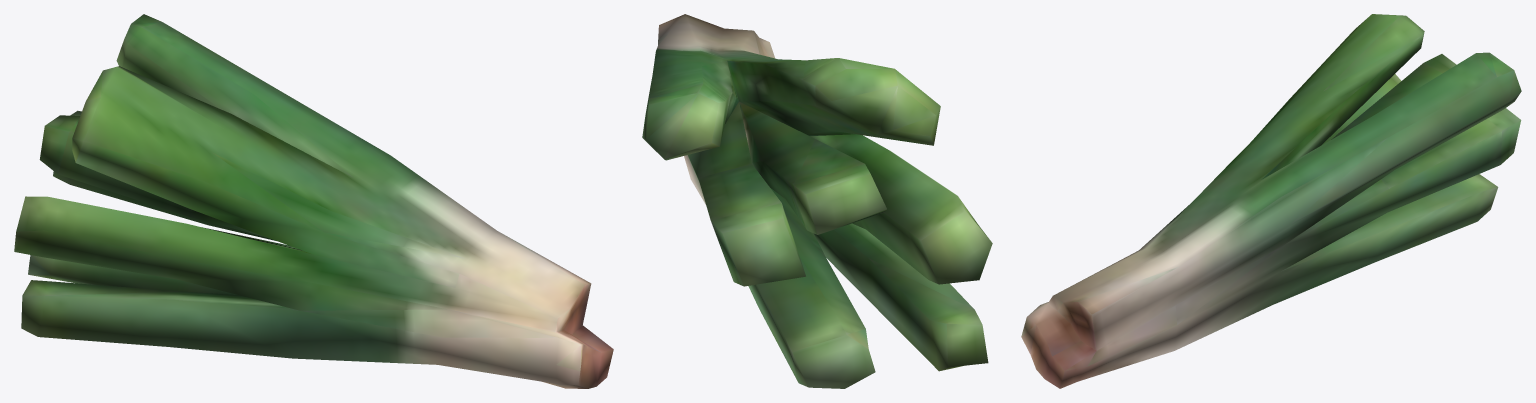
The model's file is spring-onion.glb.
3 views of the same model, side by side, from view 1: azimuth 30°, elevation 25°; view 2: azimuth 150°, elevation 25°; view 3: azimuth 270°, elevation 25° (orthographic). The views are drawn at different scales.
Visible parts, largest first — view 1: Spring Onion; view 2: Spring Onion; view 3: Spring Onion.
Boxes of the visible parts, left/top/right/bottom form: Spring Onion: left=14, top=14, right=613, bottom=388; Spring Onion: left=642, top=14, right=992, bottom=388; Spring Onion: left=1021, top=14, right=1521, bottom=388.
Bounding box in the file's own units: 1.75 × 0.9865 × 1.91.
Materials: 1 (1 with a texture image).
